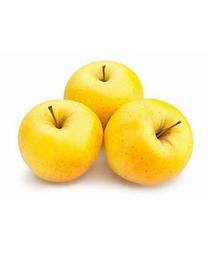apple: (103, 98, 192, 185), (17, 99, 102, 182), (63, 59, 143, 126)
